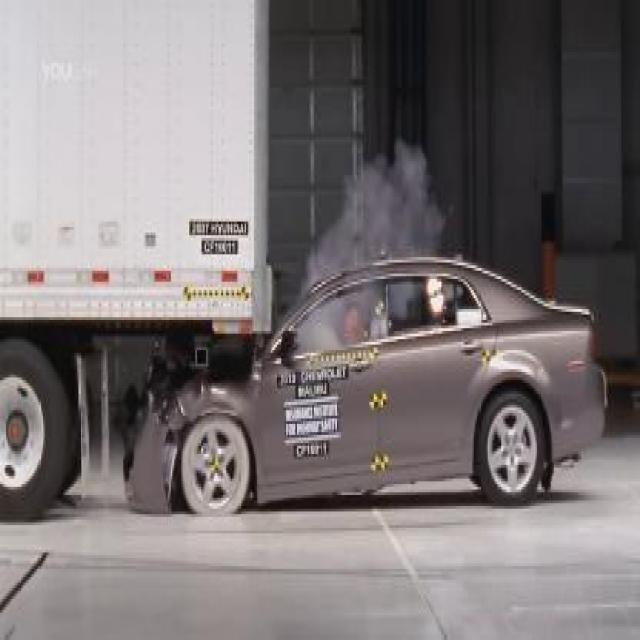accident: (0, 0, 608, 539)
